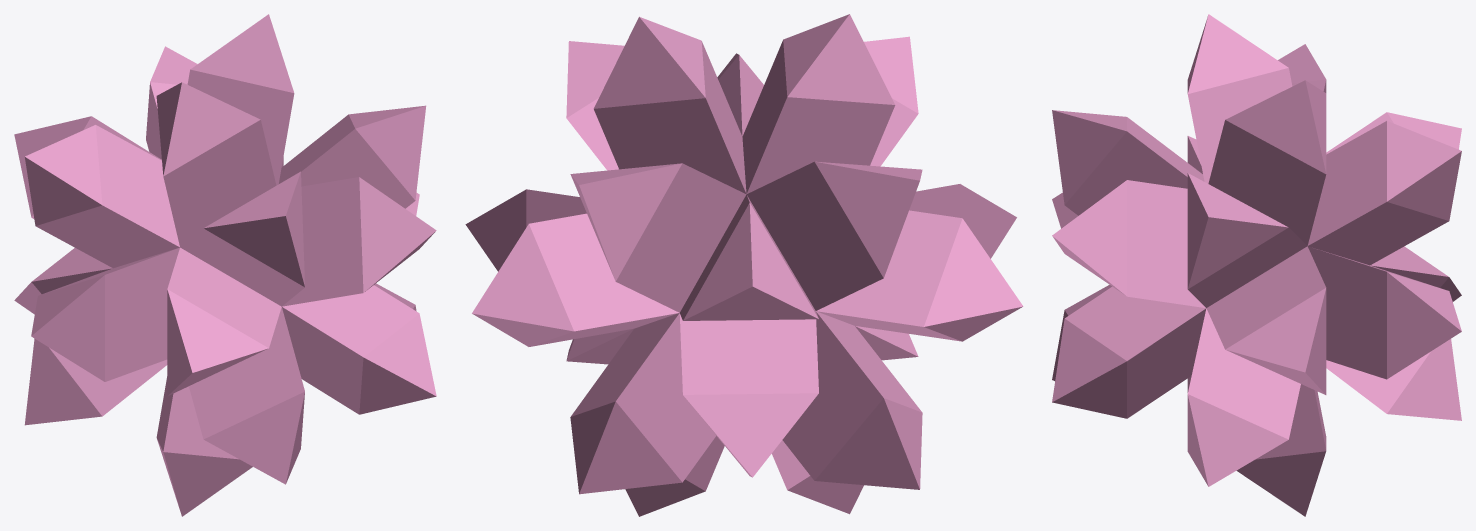
File: turret3new_bullet.fbx
3 views of the same model, side by side, from view 1: azimuth 30°, elevation 25°; view 2: azimuth 150°, elevation 25°; view 3: azimuth 270°, elevation 25° (orthographic). The views are drawn at different scales.
Parts seen in each view (by area): view 1: turret3new_bullet; view 2: turret3new_bullet; view 3: turret3new_bullet.
Boxes of the visible parts, left/top/right/bottom form: turret3new_bullet: left=14, top=14, right=436, bottom=516; turret3new_bullet: left=465, top=14, right=1023, bottom=516; turret3new_bullet: left=1052, top=14, right=1461, bottom=516.
Size of the model in its own units: 0.1558 by 0.1482 by 0.1261.
